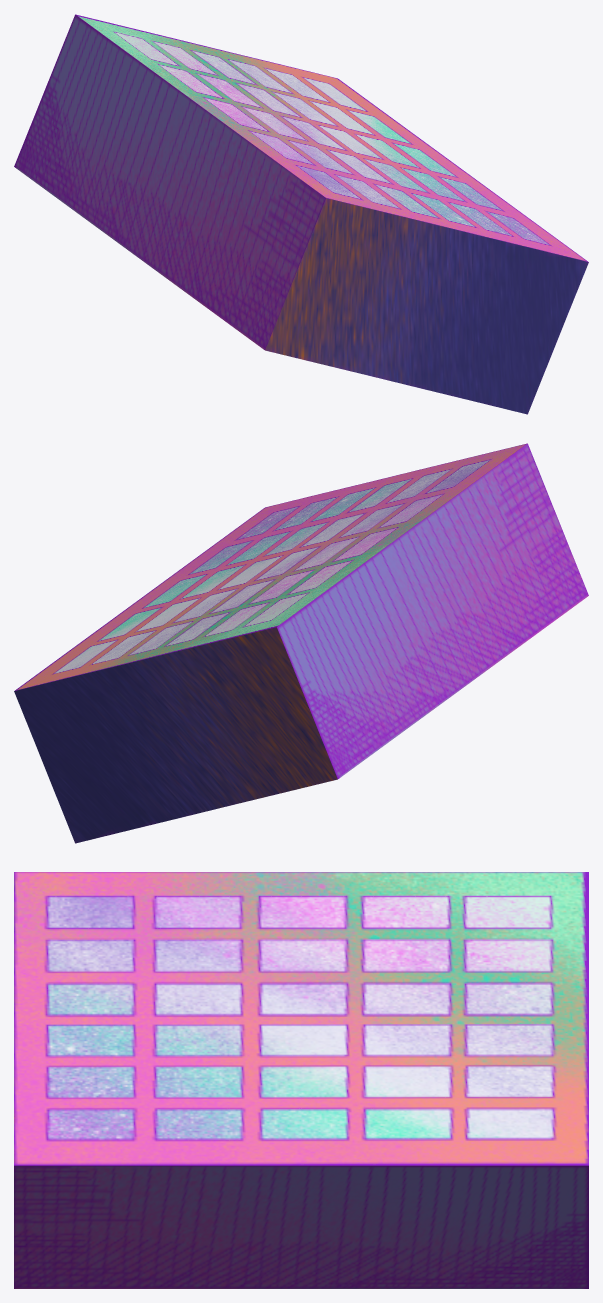
Rendered from Build_C_Top.obj.
The picture shows the model from 3 angles, top to bottom: view 1: azimuth 30°, elevation 25°; view 2: azimuth 150°, elevation 25°; view 3: azimuth 270°, elevation 25°; orthographic projection. The views are drawn at different scales.
Parts seen in each view (by area): view 1: Build_C_Top; view 2: Build_C_Top; view 3: Build_C_Top.
Part boxes in pixels (left/top/right/bottom): Build_C_Top: left=14, top=14, right=588, bottom=414; Build_C_Top: left=14, top=443, right=588, bottom=843; Build_C_Top: left=14, top=872, right=588, bottom=1288.
Size of the model in its own units: 0.2862 by 0.2242 by 0.384.
Materials: 1 (1 with a texture image).
